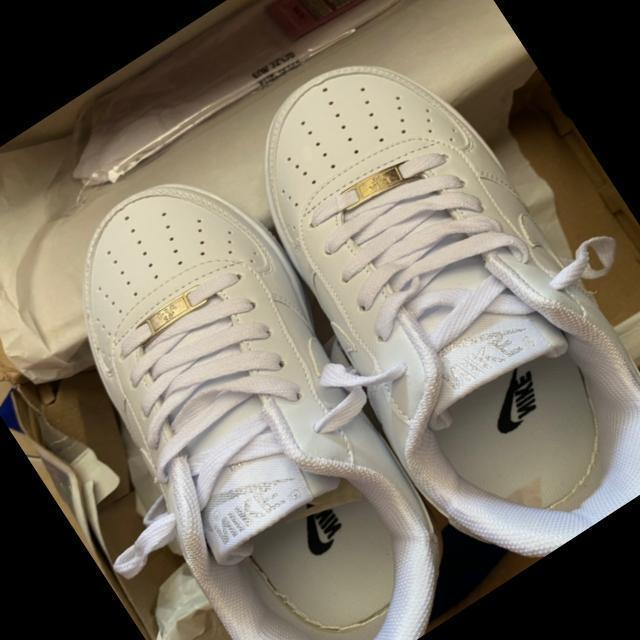nike fake air force: (191, 8, 640, 597), (0, 138, 501, 640)
